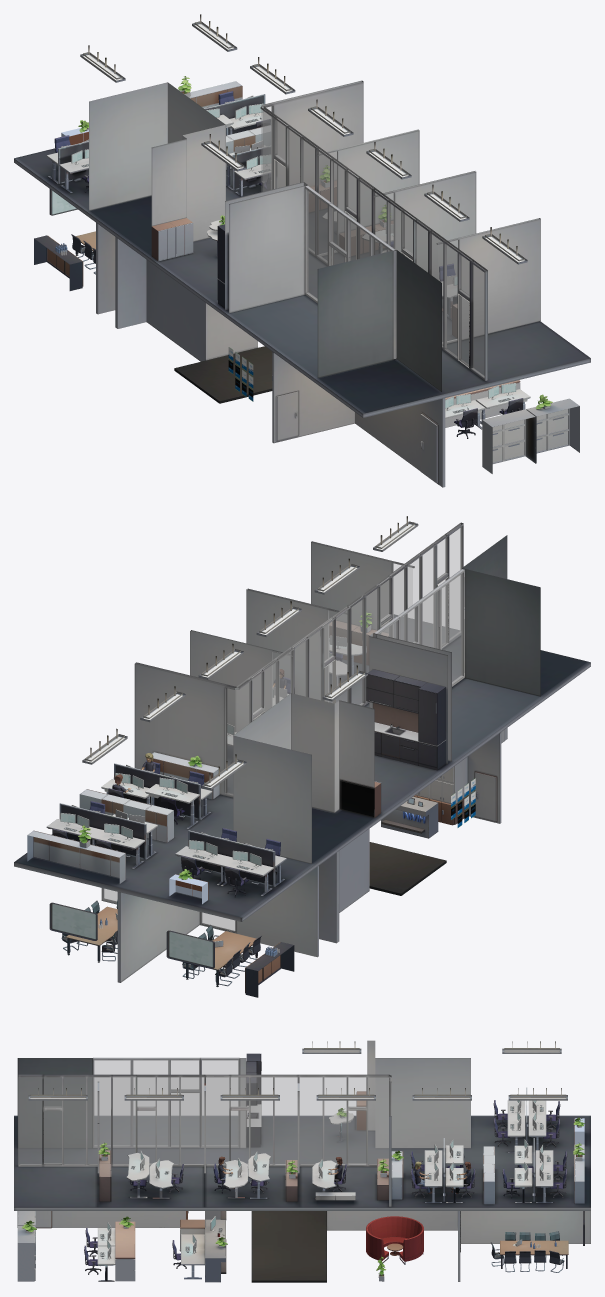
File: entryway.glb
The picture shows the model from 3 angles, top to bottom: view 1: azimuth 30°, elevation 25°; view 2: azimuth 150°, elevation 25°; view 3: azimuth 270°, elevation 25°; orthographic projection. The views are drawn at different scales.
Visible parts, largest first — view 1: Cube.203_D.001, roof/floor.002, Cube.202_D.001, glass.002, Cube.200_d.001, Cube.078_d.001, Tür.001_d.001, Buero_Regal3._D.001, Deckenlampe_lang.001_d.023, glass.008, Plane.006_d.001, Cube.007 (+13 smaller); view 2: Cube.203_D.001, roof/floor.002, Cube.200_d.001, Cube.202_D.001, glass.002, Cube.078_d.001, Cylinder.060_d.001, Cube.079_d.001, Deckenlampe_lang.001_d.023, glass.008, Buero_Regal2.014_d.001, Plane.006_d.001 (+22 smaller); view 3: roof/floor.002, glass.002, Cube.203_D.001, glass.008, Plane.006_d.001, Cube.200_d.001, Cube.079_d.001, Deckenlampe_lang.001_d.023, Tür.001_d.001, Rote_Couch_d.001, Schreibtisch_m_Sichtschutz.127, Cube.007 (+24 smaller).
Part boxes in pixels (x1,y1,x2,y2): Cube.203_D.001: [89, 82, 441, 391]; roof/floor.002: [14, 148, 590, 417]; Cube.202_D.001: [316, 129, 540, 344]; glass.002: [261, 110, 484, 376]; Cube.200_d.001: [260, 80, 487, 380]; Cube.078_d.001: [96, 223, 257, 361]; Tür.001_d.001: [272, 352, 445, 487]; Buero_Regal3._D.001: [482, 398, 579, 473]; Deckenlampe_lang.001_d.023: [80, 14, 527, 264]; glass.008: [306, 190, 389, 299]; Plane.006_d.001: [174, 346, 272, 403]; Cube.007: [305, 185, 396, 358]; Cube.203_D.001: [233, 535, 540, 863]; roof/floor.002: [14, 614, 590, 921]; Cube.200_d.001: [134, 522, 463, 797]; Cube.202_D.001: [190, 541, 414, 732]; glass.002: [238, 527, 462, 730]; Cube.078_d.001: [236, 829, 369, 957]; Cylinder.060_d.001: [366, 669, 445, 770]; Cube.079_d.001: [117, 892, 200, 982]; Deckenlampe_lang.001_d.023: [82, 516, 418, 789]; glass.008: [379, 574, 462, 683]; Buero_Regal2.014_d.001: [27, 830, 125, 883]; Plane.006_d.001: [369, 842, 446, 895]; roof/floor.002: [14, 1115, 590, 1210]; glass.002: [19, 1077, 388, 1164]; Cube.203_D.001: [17, 1040, 470, 1148]; glass.008: [94, 1060, 237, 1145]; Plane.006_d.001: [251, 1211, 326, 1282]; Cube.200_d.001: [18, 1074, 391, 1206]; Cube.079_d.001: [461, 1211, 590, 1243]; Deckenlampe_lang.001_d.023: [28, 1041, 567, 1100]; Tür.001_d.001: [17, 1211, 185, 1228]; Rote_Couch_d.001: [366, 1216, 423, 1264]; Schreibtisch_m_Sichtschutz.127: [99, 1150, 183, 1201]; Cube.007: [93, 1057, 239, 1147].
Bounding box in the file's own units: 7.24 × 6.47 × 19.16.
Materials: 19 (11 with a texture image).
